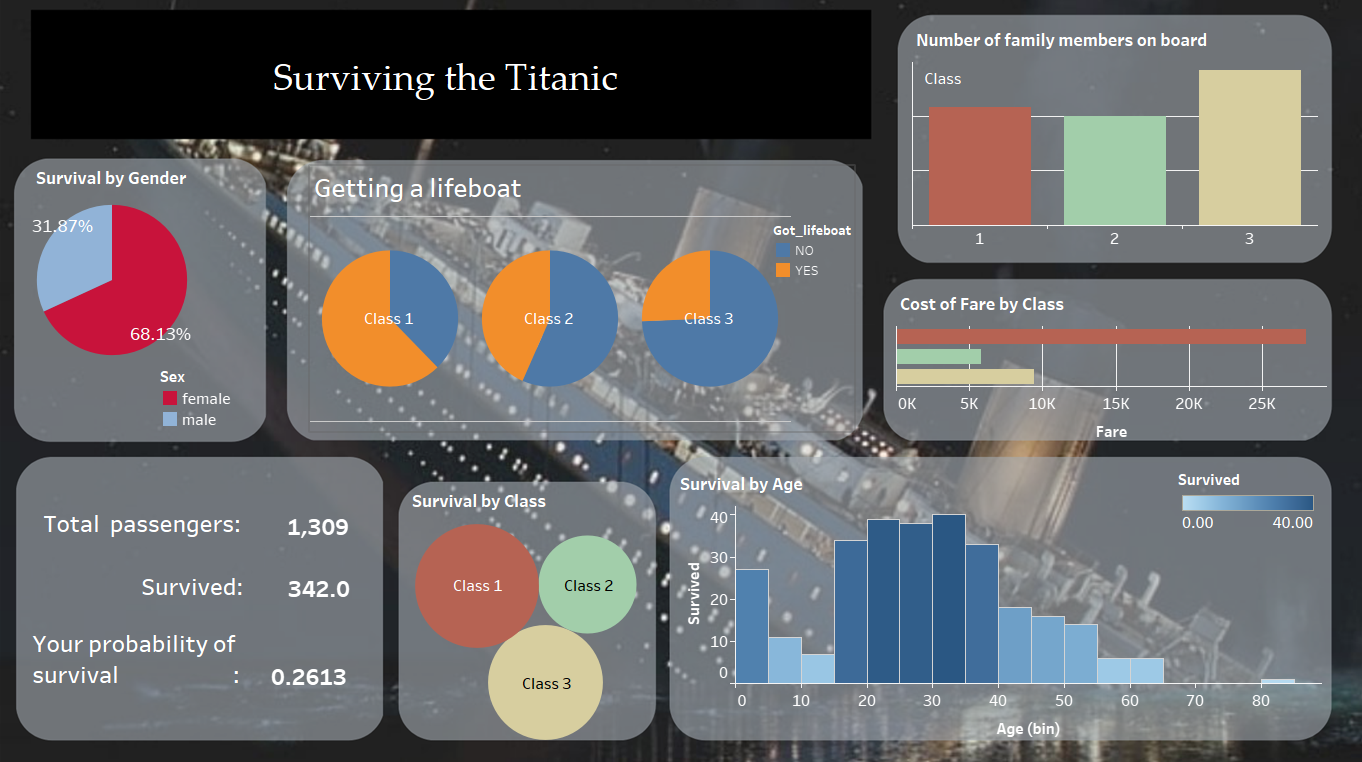

Layout of this report page (visuals, bound fields, positions):
{"tool":"tableau","page":{"name":"Dashboard 1","canvas":[1366,768],"ordinal":0},"visuals":[{"type":"worksheet","title":"Travelled with Family","mark":"Automatic","rows":["SibSp"],"box":[912,26,406,226]},{"type":"text","box":[36,28,819,101]},{"type":"text","box":[921,65,100,30]},{"type":"worksheet","title":"Gender","mark":"Pie","box":[32,164,223,269]},{"type":"worksheet","title":"Got lifeboat?","mark":"Pie","box":[310,168,544,265]},{"type":"legend","title":"Got lifeboat?","param":"[federated.1swiexp11b0w1x1gsqjgf0mphze9].[none:Calculation_2236037283589627906:n","box":[773,223,121,61]},{"type":"worksheet","title":"Cost of ticket","mark":"Automatic","cols":["Fare"],"box":[896,290,431,193]},{"type":"legend","title":"Gender","param":"[federated.1swiexp11b0w1x1gsqjgf0mphze9].[none:Sex:nk]","box":[160,368,140,64]},{"type":"worksheet","title":"Age","mark":"Automatic","rows":["Survived"],"cols":["Age (bin)"],"box":[676,470,646,278]},{"type":"legend","title":"Age","param":"[federated.1swiexp11b0w1x1gsqjgf0mphze9].[sum:Survived:qk]","box":[1178,471,140,88]},{"type":"worksheet","title":"Survived by class","mark":"Circle","box":[408,487,236,256]},{"type":"text","box":[40,510,210,30]},{"type":"worksheet","title":"Total","mark":"Automatic","box":[274,512,89,39]},{"type":"text","box":[138,572,109,32]},{"type":"worksheet","title":"Survived","mark":"Automatic","box":[275,574,84,35]},{"type":"text","box":[29,629,227,64]},{"type":"worksheet","title":"Probability","mark":"Automatic","box":[259,662,149,43]}]}

Visuals, with their boxes in screenshot pixels (x1, y1, x2, y2), scaled from the page's 1366x768 canvas onto the 1362x762 screenshot:
"Travelled with Family" worksheet: l=909, t=26, r=1314, b=250
text: l=36, t=28, r=852, b=128
text: l=918, t=64, r=1018, b=94
"Gender" worksheet (Pie marks): l=32, t=163, r=254, b=430
"Got lifeboat?" worksheet (Pie marks): l=309, t=167, r=851, b=430
"Got lifeboat?" legend: l=771, t=221, r=891, b=282
"Cost of ticket" worksheet: l=893, t=288, r=1323, b=479
"Gender" legend: l=160, t=365, r=299, b=429
"Age" worksheet: l=674, t=466, r=1318, b=742
"Age" legend: l=1175, t=467, r=1314, b=555
"Survived by class" worksheet (Circle marks): l=407, t=483, r=642, b=737
text: l=40, t=506, r=249, b=536
"Total" worksheet: l=273, t=508, r=362, b=547
text: l=138, t=568, r=246, b=599
"Survived" worksheet: l=274, t=570, r=358, b=604
text: l=29, t=624, r=255, b=688
"Probability" worksheet: l=258, t=657, r=407, b=699
